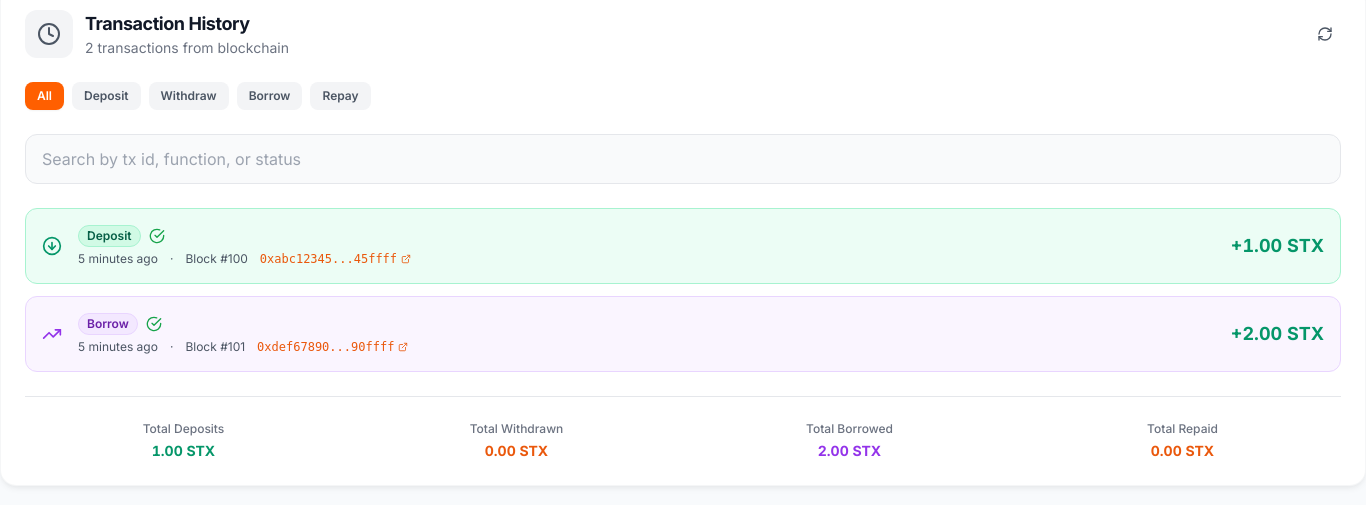
Test: TransactionHistory Component › filters visible transactions using search query
Expected: the text "Block #100" is shown, [185,251,248,267]
Expected: the text "Block #101" is shown, [185,339,245,355]
Type "abc12345" into the field named "Search transactions" at coordinates (683, 159), box [25,134,1341,184]
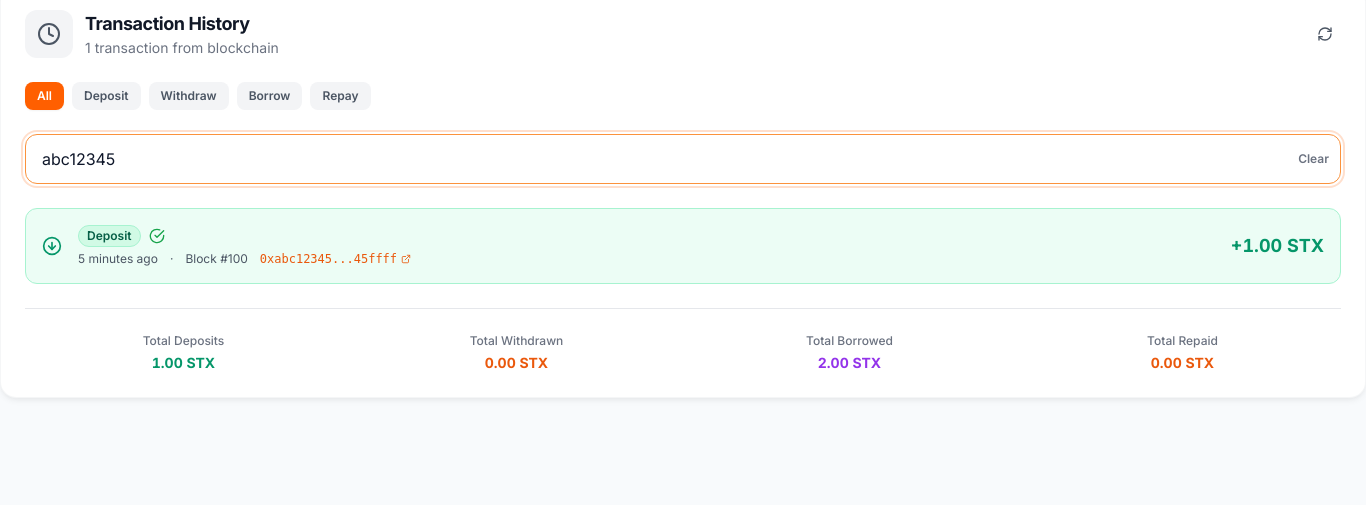
Expected: the text "0xabc12345...45ffff" is shown, [260,251,397,267]
Now the link "0xdef67890...90ffff" is gone
Click the button "Clear" at coordinates (1314, 159), box [1298,151,1329,167]
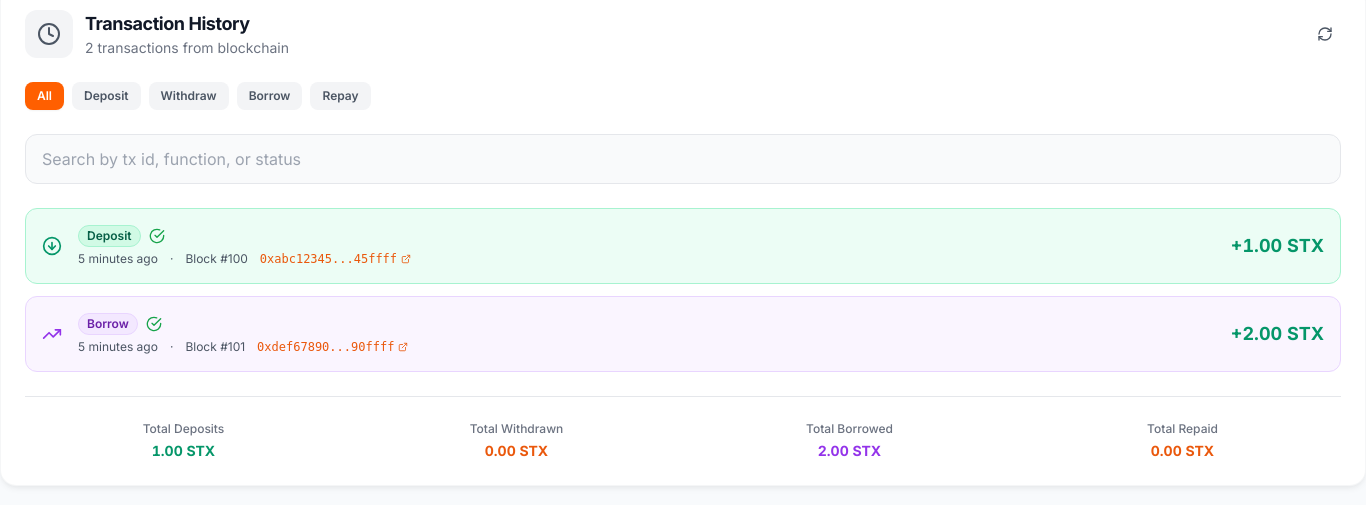
Now the text "0xdef67890...90ffff" is shown, box [257,339,394,355]
